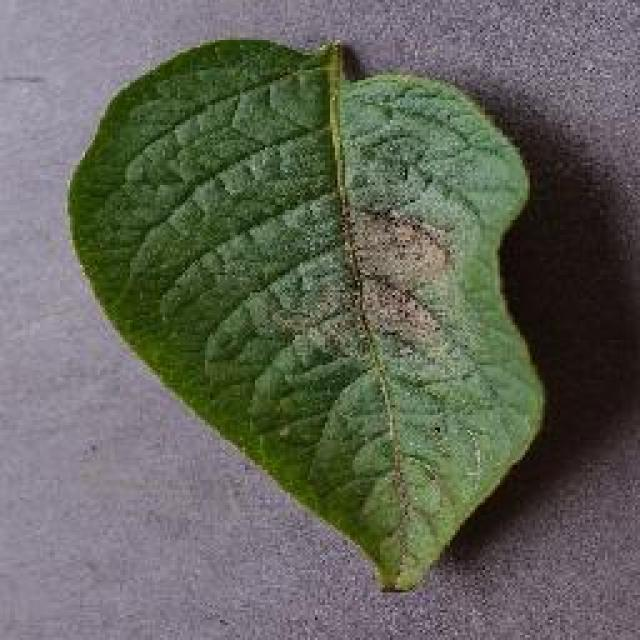Potato___Late_blight: (64, 36, 551, 599)
